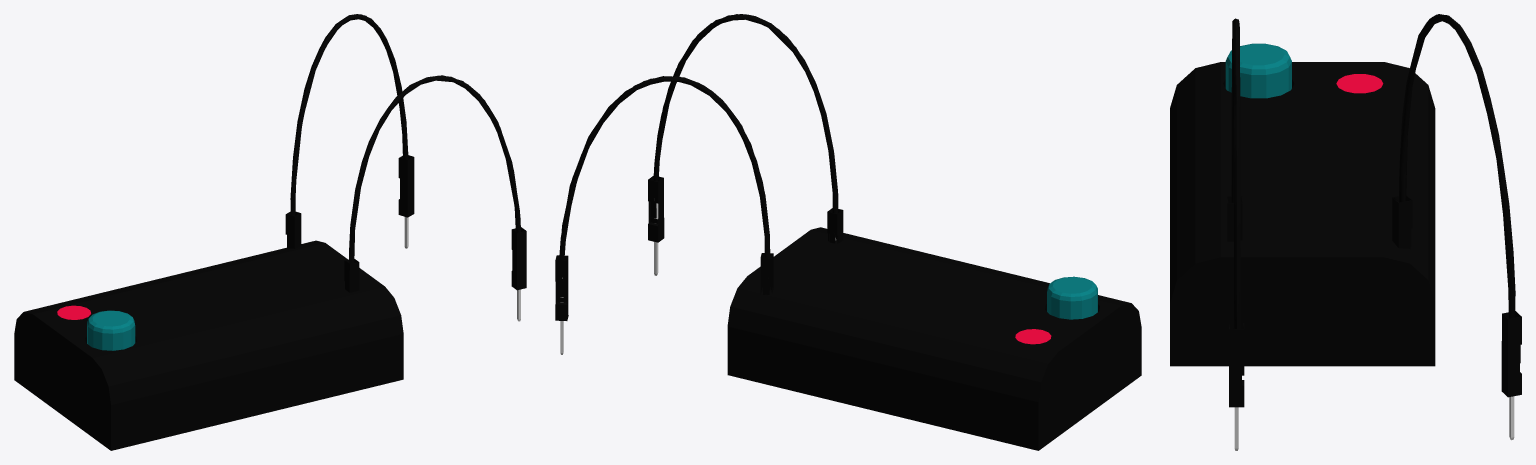
The model's file is power.fbx.
3 renders of one model, left to right at view 1: azimuth 30°, elevation 25°; view 2: azimuth 150°, elevation 25°; view 3: azimuth 270°, elevation 25°, orthographic. The views are drawn at different scales.
Parts seen in each view (by area): view 1: Cube.002, object 4, object 5, Cube.005; view 2: Cube.002, object 4, object 5, Cube.005; view 3: Cube.002, object 5, object 4, Cube.005, Cube.003.
Part boxes in pixels (x1,y1,x2,y2): Cube.002: (14, 240, 403, 450); object 4: (344, 75, 526, 321); object 5: (285, 14, 414, 248); Cube.005: (87, 310, 135, 350); Cube.002: (727, 227, 1141, 450); object 4: (648, 14, 843, 275); object 5: (555, 76, 773, 354); Cube.005: (1047, 276, 1097, 319); Cube.002: (1170, 62, 1435, 366); object 5: (1392, 14, 1521, 440); object 4: (1227, 18, 1244, 450); Cube.005: (1225, 43, 1291, 98); Cube.003: (1336, 74, 1383, 93).
Size of the model in its own units: 89.15 by 53.61 by 45.4.
